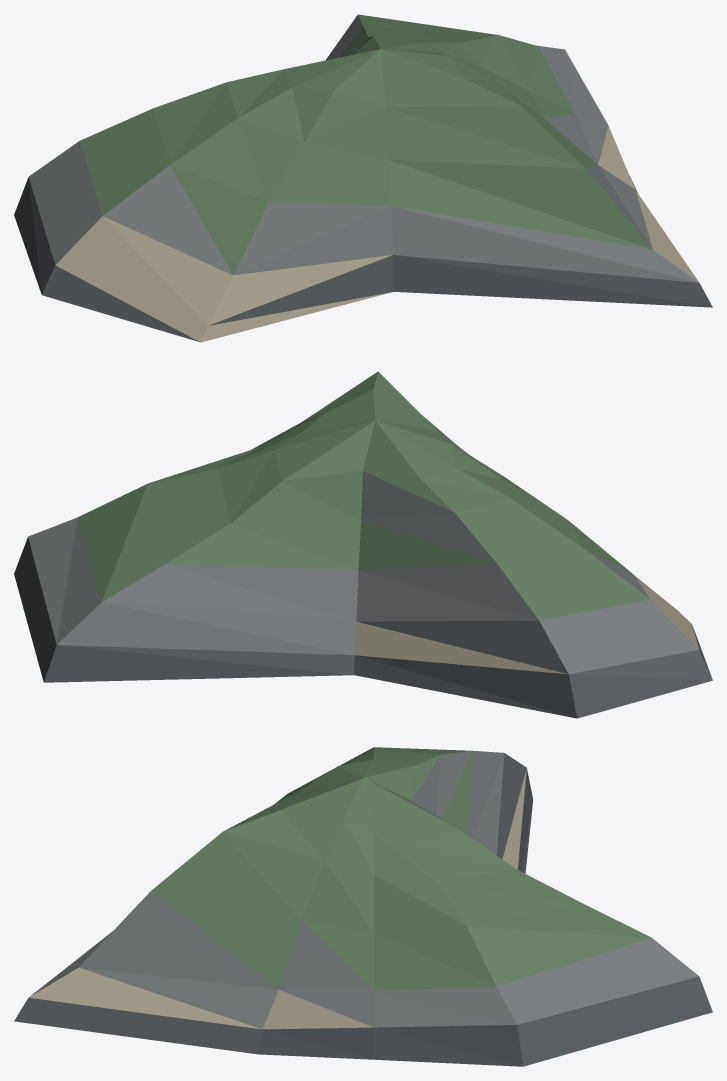
Rendered from ring_of_thorns_lod1.glb.
3 views of the same model, one above another, from view 1: azimuth 30°, elevation 25°; view 2: azimuth 150°, elevation 25°; view 3: azimuth 270°, elevation 25° (orthographic). The views are drawn at different scales.
Size of the model in its own units: 2.4 by 0.7051 by 2.4.
